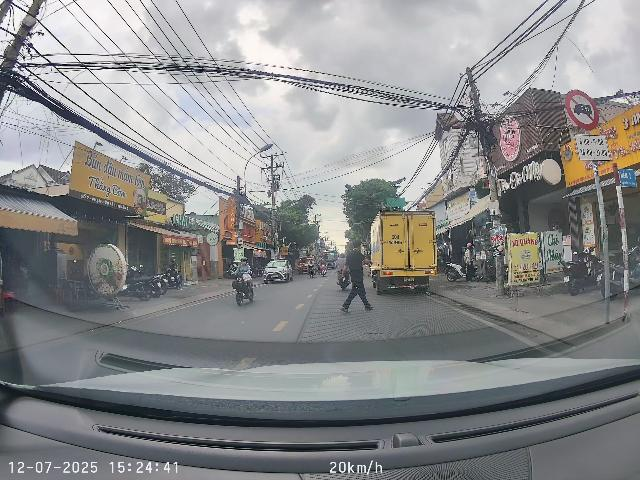106-cam-oto-tai: (565, 89, 599, 131)
